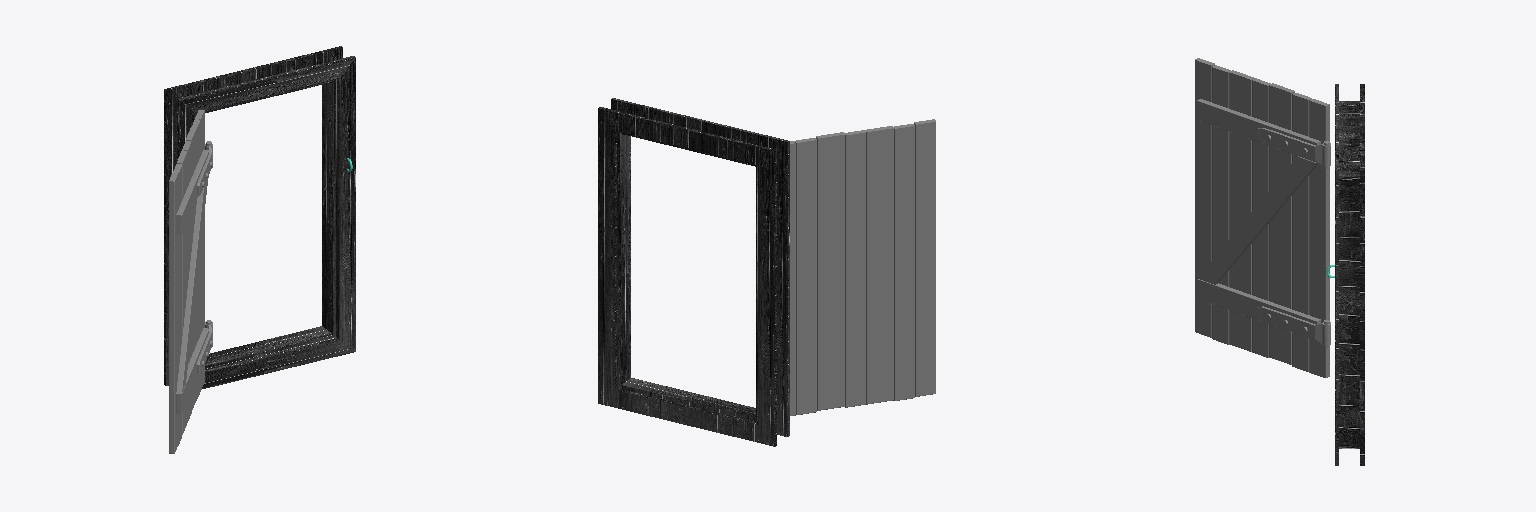
The picture shows the model from 3 angles: view 1: azimuth 30°, elevation 25°; view 2: azimuth 150°, elevation 25°; view 3: azimuth 270°, elevation 25°; orthographic projection.
Parts seen in each view (by area): view 1: Line02, Plane09; view 2: Plane09, Line02; view 3: Plane09, Line02, Cylinder40, Cylinder07.
Boxes of the visible parts, <box> form: Line02: <box>164,46,355,388</box>; Plane09: <box>169,110,208,453</box>; Plane09: <box>790,119,935,415</box>; Line02: <box>598,98,789,446</box>; Plane09: <box>1195,58,1329,377</box>; Line02: <box>1335,84,1364,465</box>; Cylinder40: <box>1258,128,1330,168</box>; Cylinder07: <box>1258,306,1330,347</box>.
Size of the model in its own units: 49372 by 54629 by 28502.
5 materials, 1 textured.